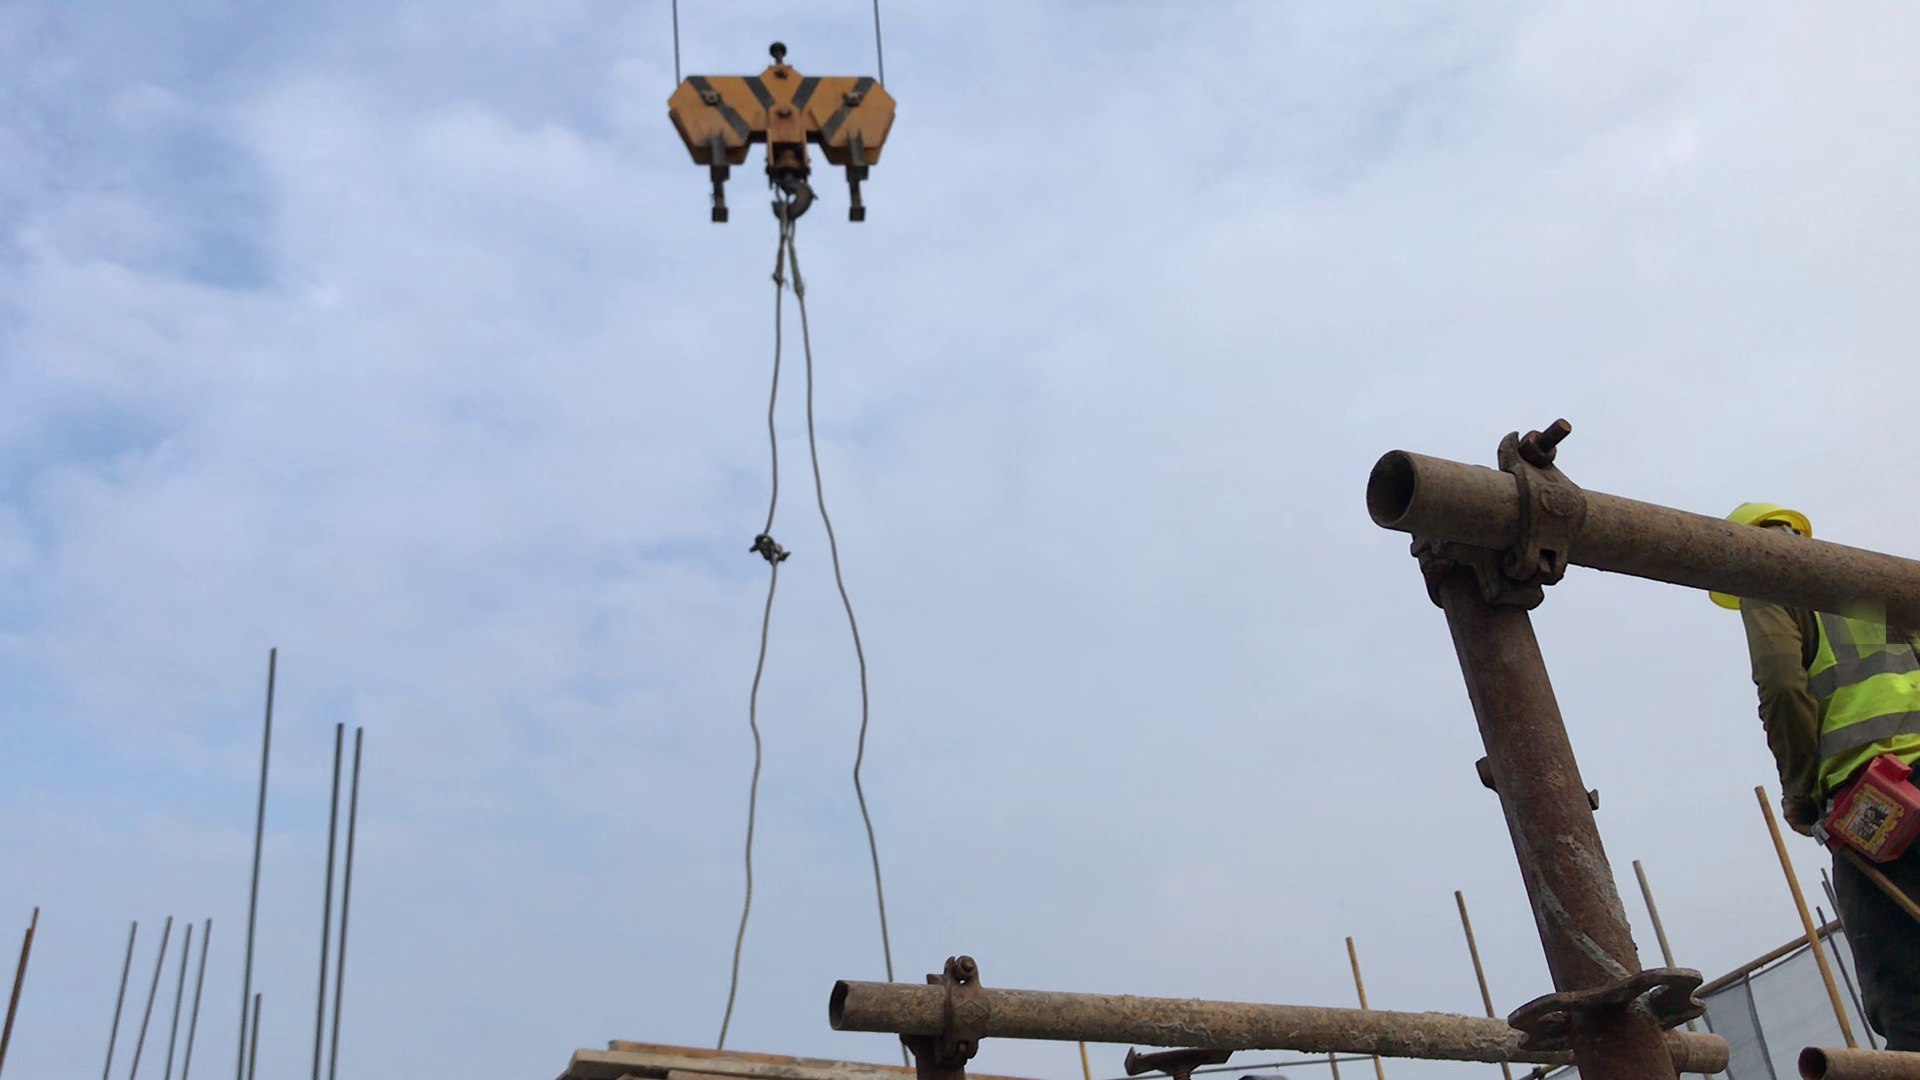person: (1709, 497, 1920, 1052)
vest: (1794, 595, 1920, 783)
